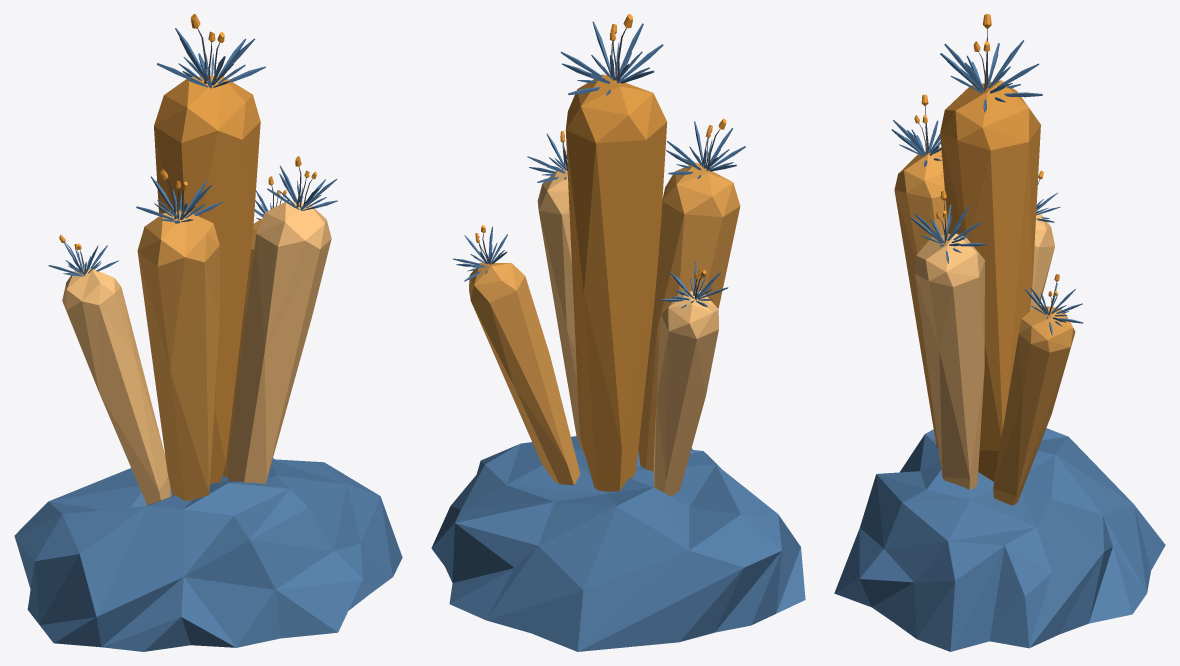
File: AW_Plant03.fbx
3 renders of one model, left to right at view 1: azimuth 30°, elevation 25°; view 2: azimuth 150°, elevation 25°; view 3: azimuth 270°, elevation 25°, orthographic. The views are drawn at different scales.
Parts seen in each view (by area): view 1: AW_Plant03; view 2: AW_Plant03; view 3: AW_Plant03.
Part boxes in pixels (x1,y1,x2,y2): AW_Plant03: (14,14,402,651); AW_Plant03: (431,14,805,651); AW_Plant03: (834,14,1165,651).
Size of the model in its own units: 53.8 by 84.64 by 46.2.
Materials: 1 (1 with a texture image).
